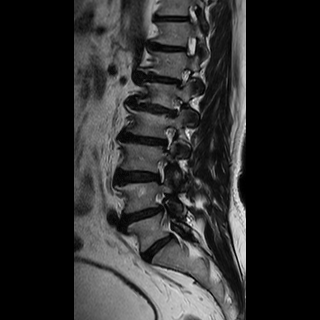LFS0: (148, 153, 177, 186), (156, 120, 180, 155)
